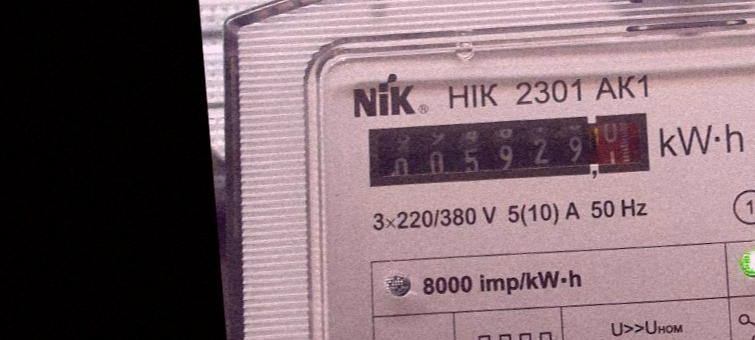0: (425, 146, 446, 175), (388, 151, 411, 175), (599, 118, 620, 143)
2: (528, 132, 550, 167)
5: (460, 143, 480, 172)
9: (492, 139, 516, 171), (564, 130, 586, 164), (391, 130, 411, 150)
screen: (358, 99, 658, 201)
